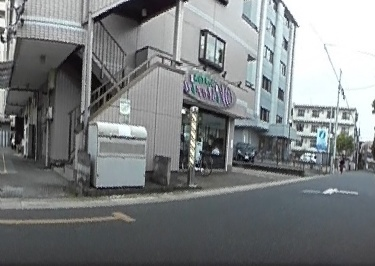person: (337, 156, 345, 171)
